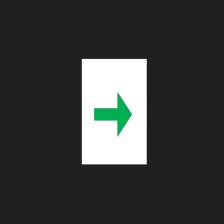right: (91, 89, 135, 139)
